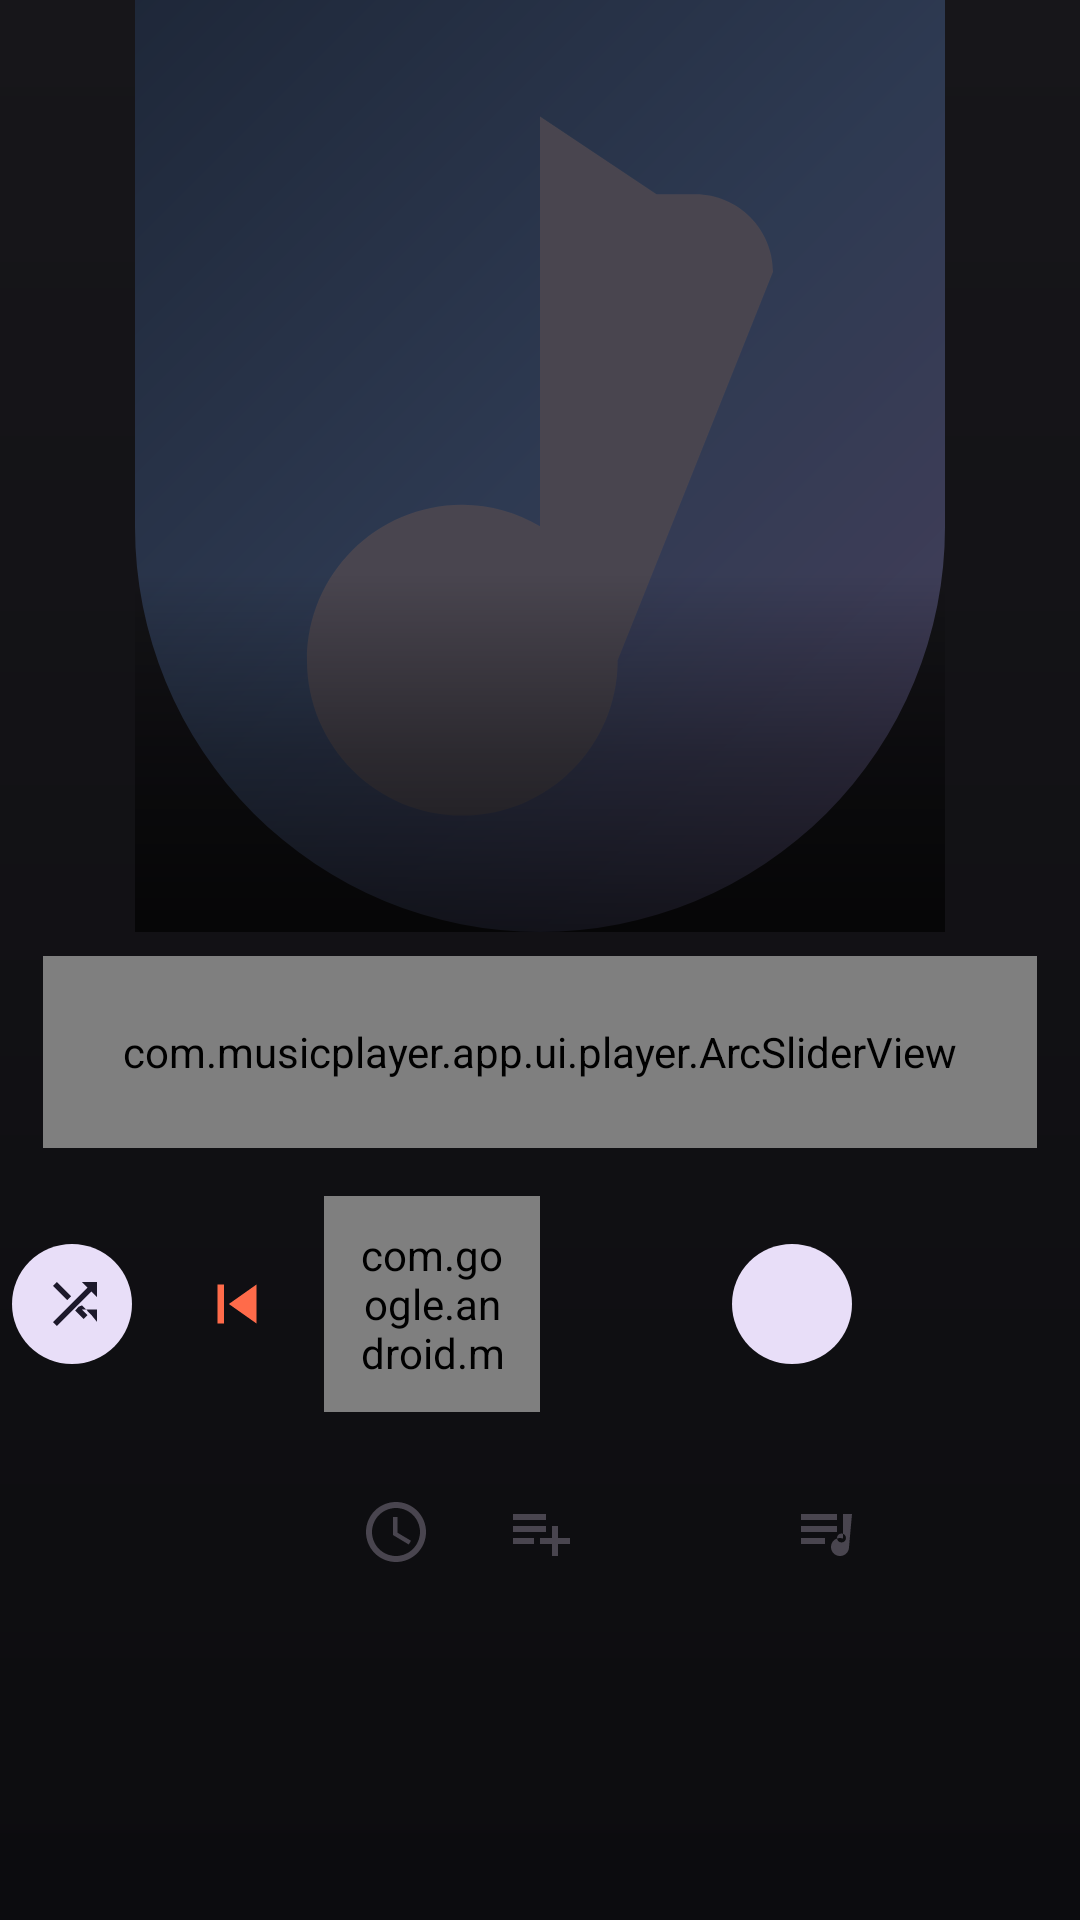

Named icons in this screenshot (1080px x 1920px) and their centers, (x=x, y=y):
Previous: (x=237, y=1304)
Queue: (x=826, y=1535)
Shuffle: (x=72, y=1304)
Sleep timer: (x=396, y=1532)
